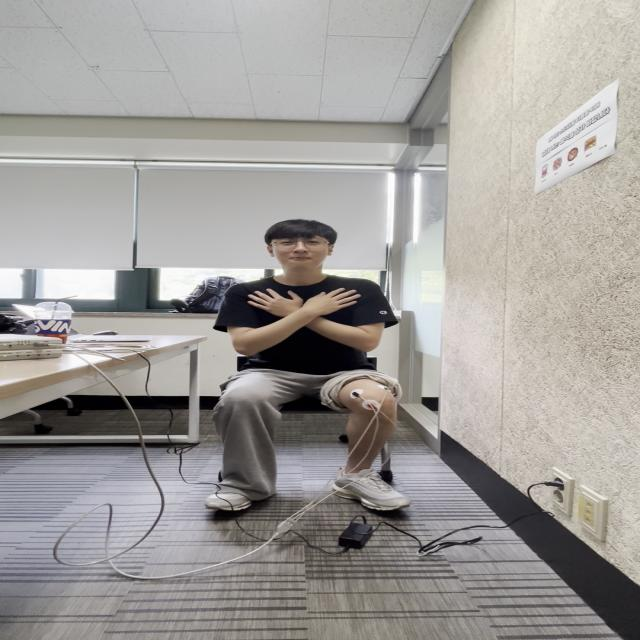squat: (216, 280, 397, 458), (314, 364, 407, 514), (204, 355, 288, 515), (229, 356, 397, 434)
